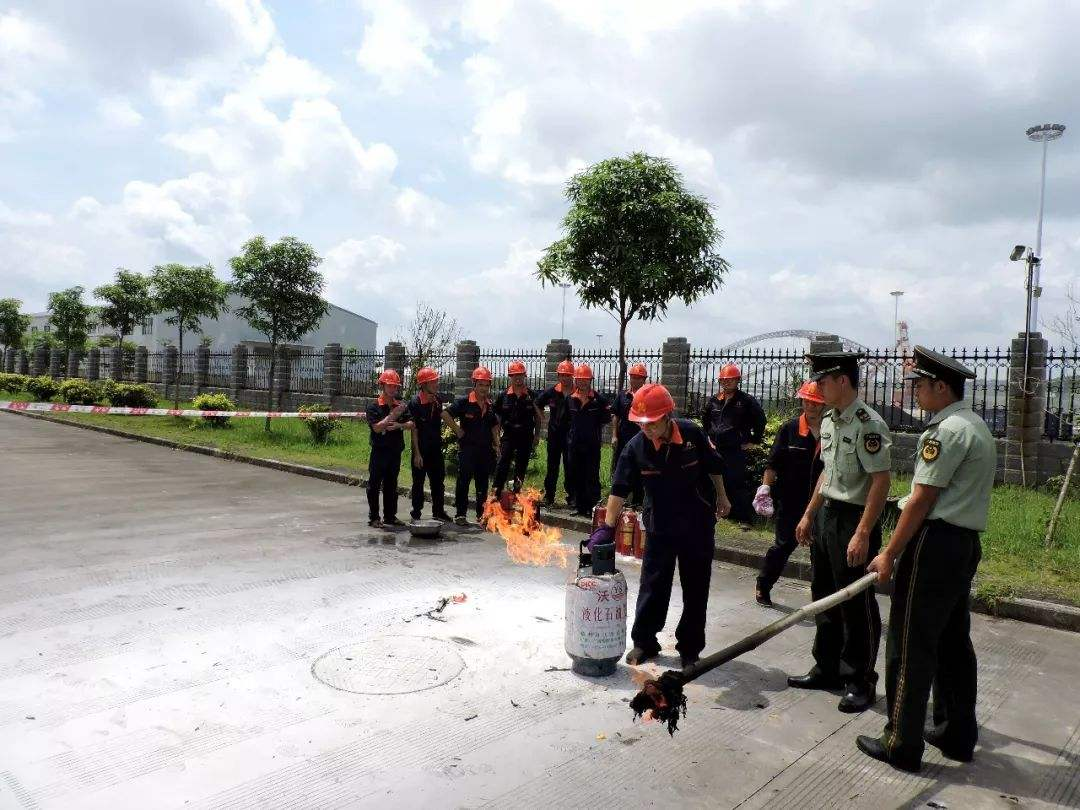fire: (475, 480, 576, 578)
